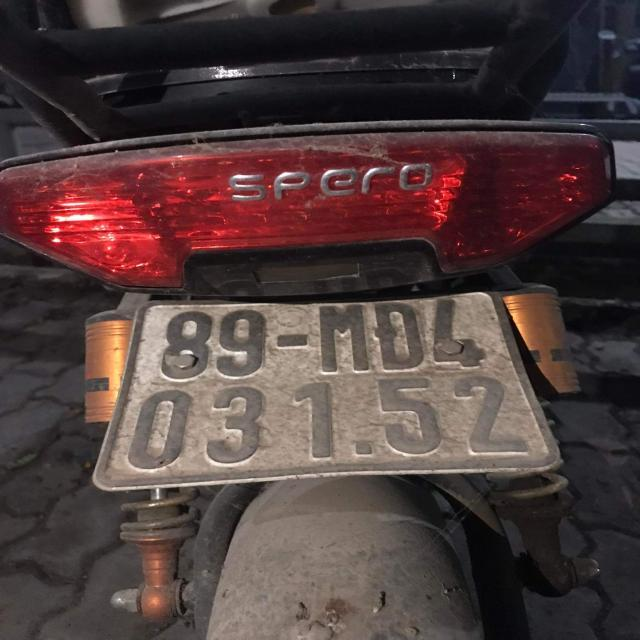0: (125, 386, 193, 472)
1: (288, 378, 338, 460)
2: (450, 370, 540, 458)
3: (202, 385, 262, 467)
4: (430, 298, 491, 372)
5: (372, 376, 450, 458)
8: (158, 308, 211, 380)
9: (216, 306, 268, 377)
B: (372, 300, 428, 371)
M: (314, 302, 374, 376)
